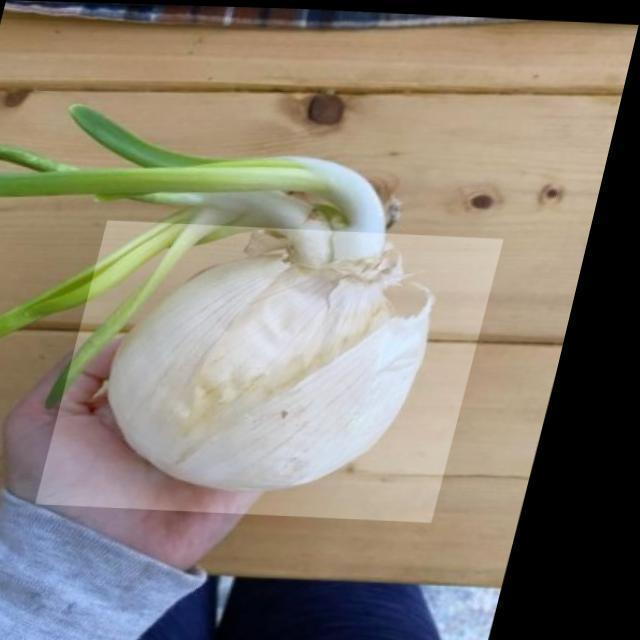Onion: (58, 219, 516, 519)
